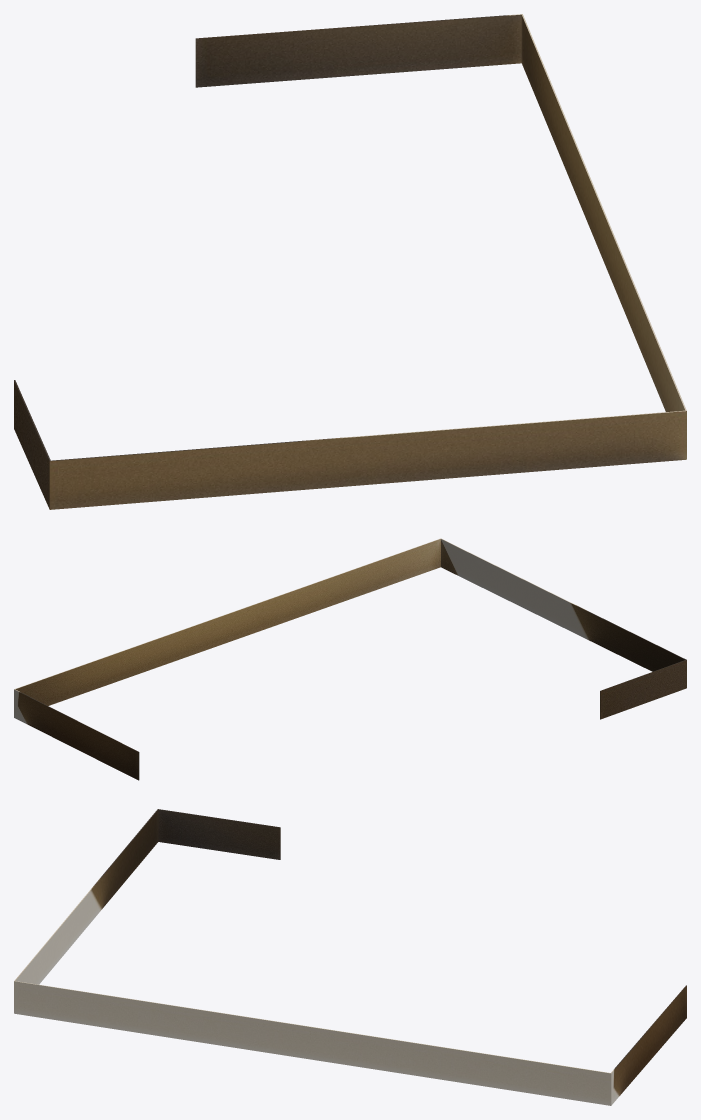
The model's file is Building_05_Cafe_Balustrade.fbx.
3 views of the same model, one above another, from view 1: azimuth 30°, elevation 25°; view 2: azimuth 150°, elevation 25°; view 3: azimuth 270°, elevation 25° (orthographic). The views are drawn at different scales.
Parts seen in each view (by area): view 1: Building_05_Cafe_Balustrade; view 2: Building_05_Cafe_Balustrade; view 3: Building_05_Cafe_Balustrade.
Part boxes in pixels (x1=…): Building_05_Cafe_Balustrade: x1=14, y1=14, x2=686, y2=509; Building_05_Cafe_Balustrade: x1=14, y1=538, x2=686, y2=780; Building_05_Cafe_Balustrade: x1=14, y1=809, x2=686, y2=1105.
Size of the model in its own units: 17.48 by 1 by 18.79.
Materials: 1 (1 with a texture image).
